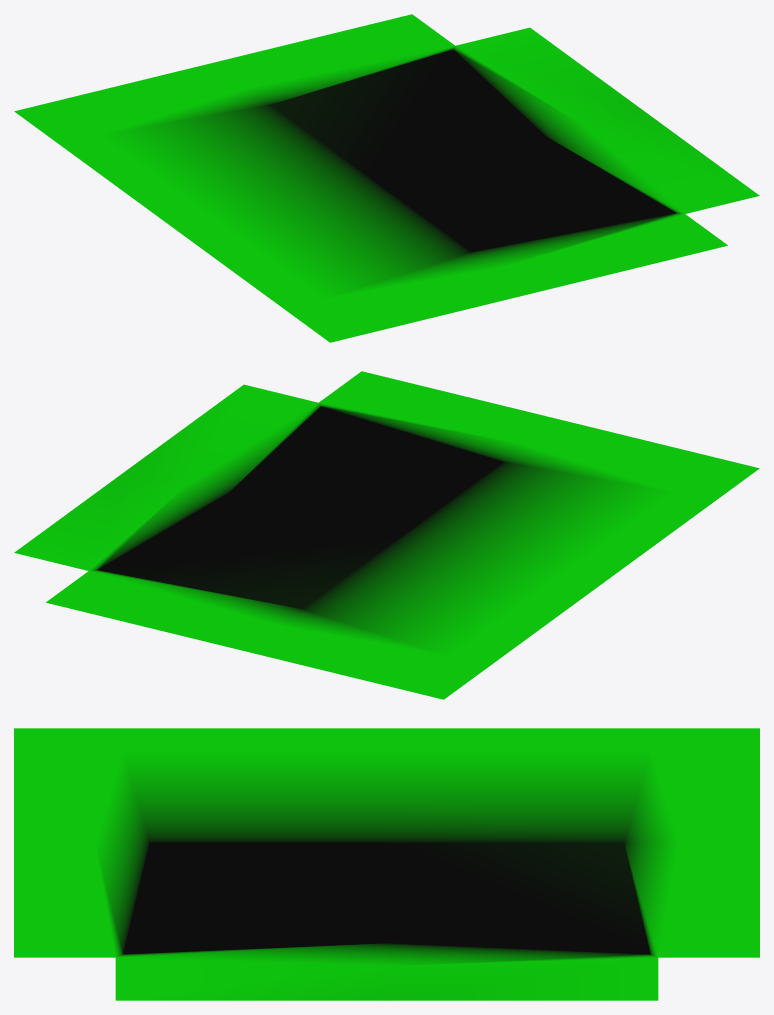
The model's file is T_crossing_sidewalk.fbx.
3 views of the same model, one above another, from view 1: azimuth 30°, elevation 25°; view 2: azimuth 150°, elevation 25°; view 3: azimuth 270°, elevation 25° (orthographic). The views are drawn at different scales.
Parts seen in each view (by area): view 1: T_crossing_sidewalk; view 2: T_crossing_sidewalk; view 3: T_crossing_sidewalk.
Boxes of the visible parts, left/top/right/bottom form: T_crossing_sidewalk: left=14, top=14, right=759, bottom=342; T_crossing_sidewalk: left=14, top=371, right=759, bottom=699; T_crossing_sidewalk: left=14, top=728, right=759, bottom=1000.
Bounding box in the file's own units: 950 × 0.00013 × 1100.
